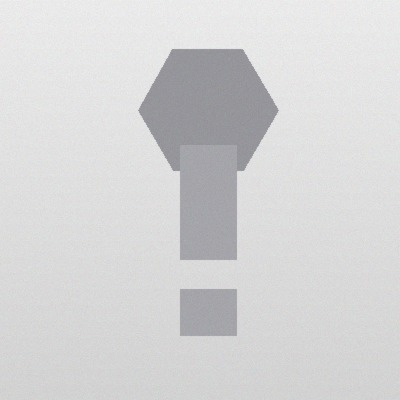broken: (168, 254, 248, 294)
